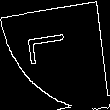L_E: (31, 35, 79, 75)
